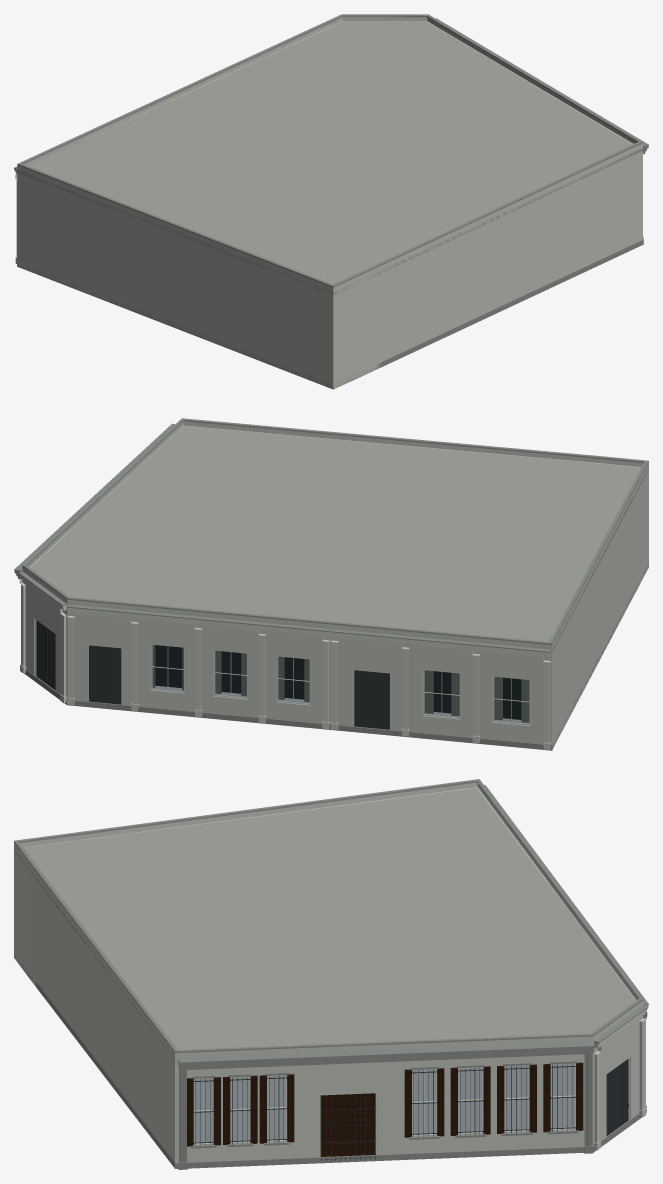
Rendered from building.glb.
3 views of the same model, one above another, from view 1: azimuth 30°, elevation 25°; view 2: azimuth 150°, elevation 25°; view 3: azimuth 270°, elevation 25° (orthographic). The views are drawn at different scales.
Visible parts, largest first — view 1: roof/bank:0/roof_slab#0001, bank:0/edge0/z0/bank:0/edge0/z0/wall_0_0, bank:0/edge3/z0/bank:0/edge3/z0/wall_0_0, roof/bank:0/parapet#0001, roof/bank:0/parapet_cap#0002, bank:0/edge1/z0/bank:0/edge1/z0/wall_0_0, roof/bank:0/parapet_cap#0001, bank:0/edge3/z0/plinth#0001, bank:0/edge2/z0/bank:0/edge2/z0/wall_0_0, bank:0/edge0/z0/plinth#0001; view 2: roof/bank:0/roof_slab#0001, bank:0/edge0/z0/bank:0/edge0/z0/wall_0_0, roof/bank:0/parapet#0001, bank:0/edge7/z0/bank:0/edge7/z0/wall_0_0/clip12, bank:0/edge8/z0/bank:0/edge8/z0/wall_0_0/clip10, roof/bank:0/parapet_cap#0002, bank:0/edge7/z0/bank:0/edge7/z0/wall_0_0/clip2, bank:0/edge8/z0/bank:0/edge8/z0/wall_0_0/clip2, roof/bank:0/parapet_cap#0001, bank:0/edge6/z0/bank:0/edge6/z0/wall_0_0, bank:0/edge8/z0/opening_u1.08_v0.05/door_leaf#0001, bank:0/edge7/z0/opening_u1.00_v0.05/door_leaf#0001 (+41 smaller); view 3: roof/bank:0/roof_slab#0001, bank:0/edge5/z0/bank:0/edge5/z0/wall_0_0, bank:0/edge3/z0/bank:0/edge3/z0/wall_0_0, roof/bank:0/parapet#0001, roof/bank:0/parapet_cap#0002, bank:0/edge5/z0/plinth#0001, bank:0/edge6/z0/bank:0/edge6/z0/wall_0_0, bank:0/edge5/z0/proj_cornice_02/cornice_drip#0001, bank:0/edge5/z0/opening_u6.29_v0.04/door_leaf#0001, roof/bank:0/parapet_cap#0001, bank:0/edge1/z0/bank:0/edge1/z0/wall_0_0, bank:0/edge5/z0/opening_u16.55_v1.10/window_panel#0001 (+14 smaller).
Part boxes in pixels (x1,y1,x2,y2): roof/bank:0/roof_slab#0001: [17, 21, 642, 295]; bank:0/edge0/z0/bank:0/edge0/z0/wall_0_0: [17, 170, 333, 389]; bank:0/edge3/z0/bank:0/edge3/z0/wall_0_0: [376, 148, 642, 369]; roof/bank:0/parapet#0001: [17, 17, 642, 292]; roof/bank:0/parapet_cap#0002: [18, 14, 642, 286]; bank:0/edge1/z0/bank:0/edge1/z0/wall_0_0: [333, 279, 361, 389]; roof/bank:0/parapet_cap#0001: [17, 16, 642, 287]; bank:0/edge3/z0/plinth#0001: [376, 240, 643, 368]; bank:0/edge2/z0/bank:0/edge2/z0/wall_0_0: [361, 272, 375, 376]; bank:0/edge0/z0/plinth#0001: [17, 263, 332, 388]; roof/bank:0/roof_slab#0001: [31, 425, 648, 652]; bank:0/edge0/z0/bank:0/edge0/z0/wall_0_0: [552, 467, 648, 748]; roof/bank:0/parapet#0001: [22, 421, 648, 649]; bank:0/edge7/z0/bank:0/edge7/z0/wall_0_0/clip12: [67, 604, 330, 660]; bank:0/edge8/z0/bank:0/edge8/z0/wall_0_0/clip10: [331, 629, 551, 681]; roof/bank:0/parapet_cap#0002: [22, 418, 648, 643]; bank:0/edge7/z0/bank:0/edge7/z0/wall_0_0/clip2: [122, 688, 330, 724]; bank:0/edge8/z0/bank:0/edge8/z0/wall_0_0/clip2: [391, 713, 551, 745]; roof/bank:0/parapet_cap#0001: [22, 420, 648, 644]; bank:0/edge6/z0/bank:0/edge6/z0/wall_0_0: [22, 580, 67, 699]; bank:0/edge8/z0/opening_u1.08_v0.05/door_leaf#0001: [354, 670, 389, 729]; bank:0/edge7/z0/opening_u1.00_v0.05/door_leaf#0001: [89, 645, 121, 704]; roof/bank:0/roof_slab#0001: [14, 788, 636, 1061]; bank:0/edge5/z0/bank:0/edge5/z0/wall_0_0: [178, 1041, 593, 1162]; bank:0/edge3/z0/bank:0/edge3/z0/wall_0_0: [35, 877, 174, 1162]; roof/bank:0/parapet#0001: [14, 782, 643, 1058]; roof/bank:0/parapet_cap#0002: [14, 779, 643, 1051]; bank:0/edge5/z0/plinth#0001: [178, 1147, 583, 1168]; bank:0/edge6/z0/bank:0/edge6/z0/wall_0_0: [593, 1016, 642, 1145]; bank:0/edge5/z0/proj_cornice_02/cornice_drip#0001: [178, 1041, 594, 1063]; bank:0/edge5/z0/opening_u6.29_v0.04/door_leaf#0001: [320, 1093, 375, 1156]; roof/bank:0/parapet_cap#0001: [14, 781, 643, 1052]; bank:0/edge1/z0/bank:0/edge1/z0/wall_0_0: [14, 847, 27, 975]; bank:0/edge5/z0/opening_u16.55_v1.10/window_panel#0001: [552, 1064, 574, 1129].
Bounding box in the file's own units: 29.03 × 5.72 × 28.08.
Materials: 9 (1 with a texture image).
